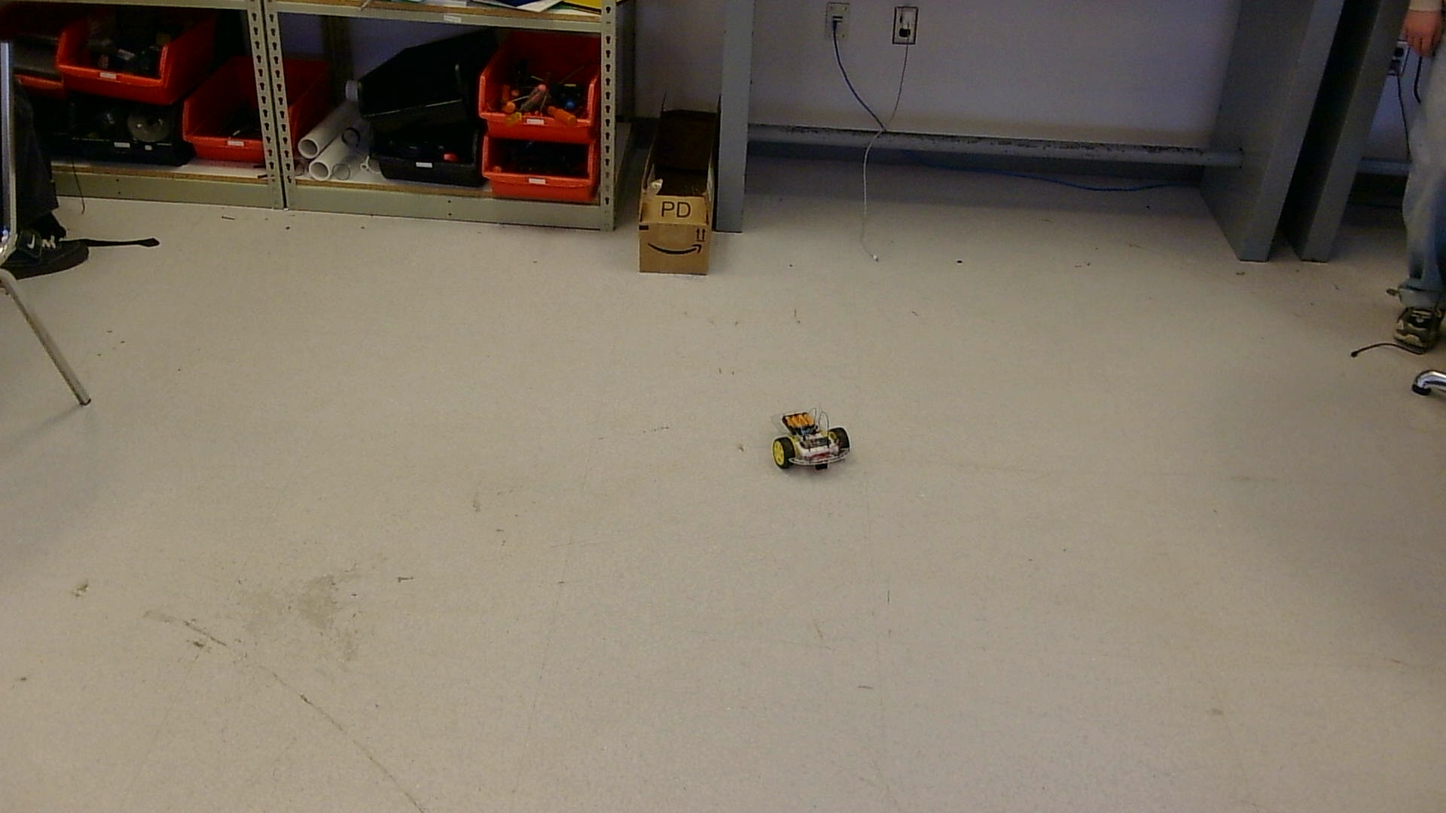robot: (771, 410, 850, 470)
